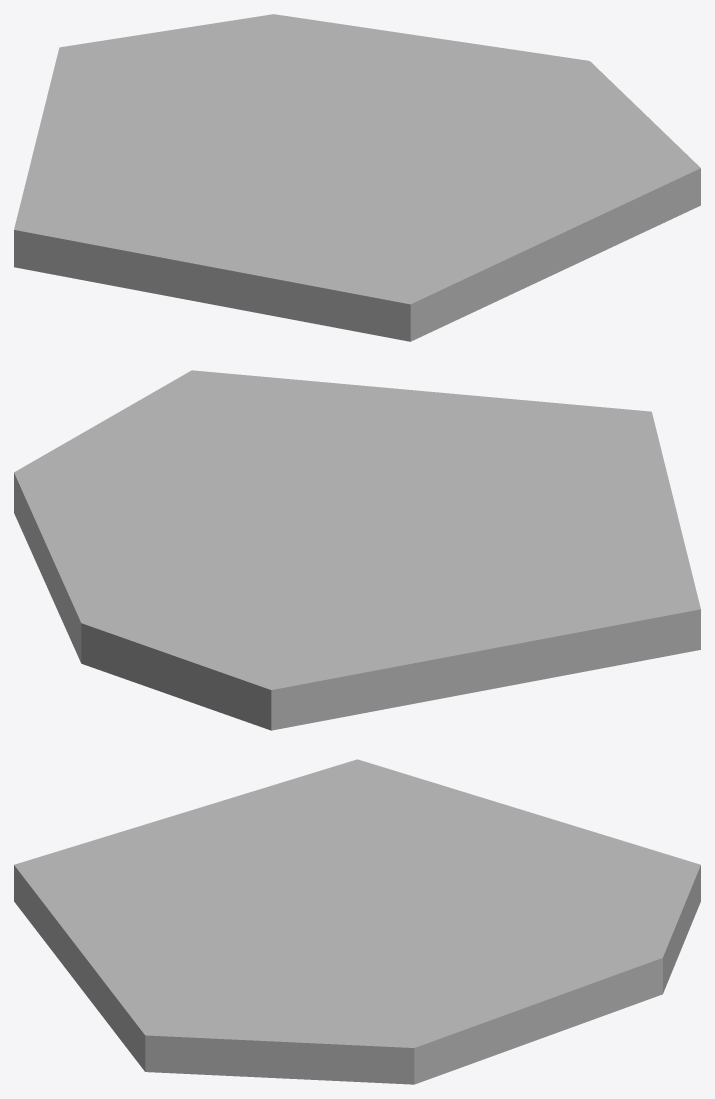
File: rocks2.fbx
The picture shows the model from 3 angles, top to bottom: view 1: azimuth 30°, elevation 25°; view 2: azimuth 150°, elevation 25°; view 3: azimuth 270°, elevation 25°; orthographic projection. The views are drawn at different scales.
Parts seen in each view (by area): view 1: Icosphere; view 2: Icosphere; view 3: Icosphere.
Boxes of the visible parts, x1,y1,x2,y2 form: Icosphere: [14, 14, 700, 341]; Icosphere: [14, 370, 700, 730]; Icosphere: [14, 759, 700, 1084].
Bounding box in the file's own units: 1.69 × 0.1 × 1.7.
1 material, 1 textured.
